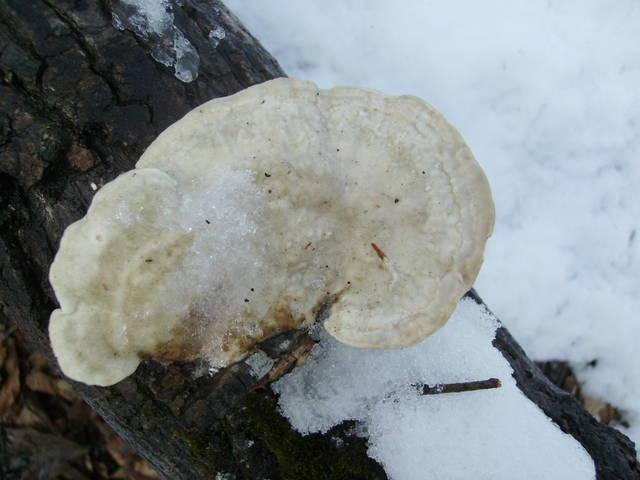Non-edible Mushroom: (46, 75, 496, 388)
